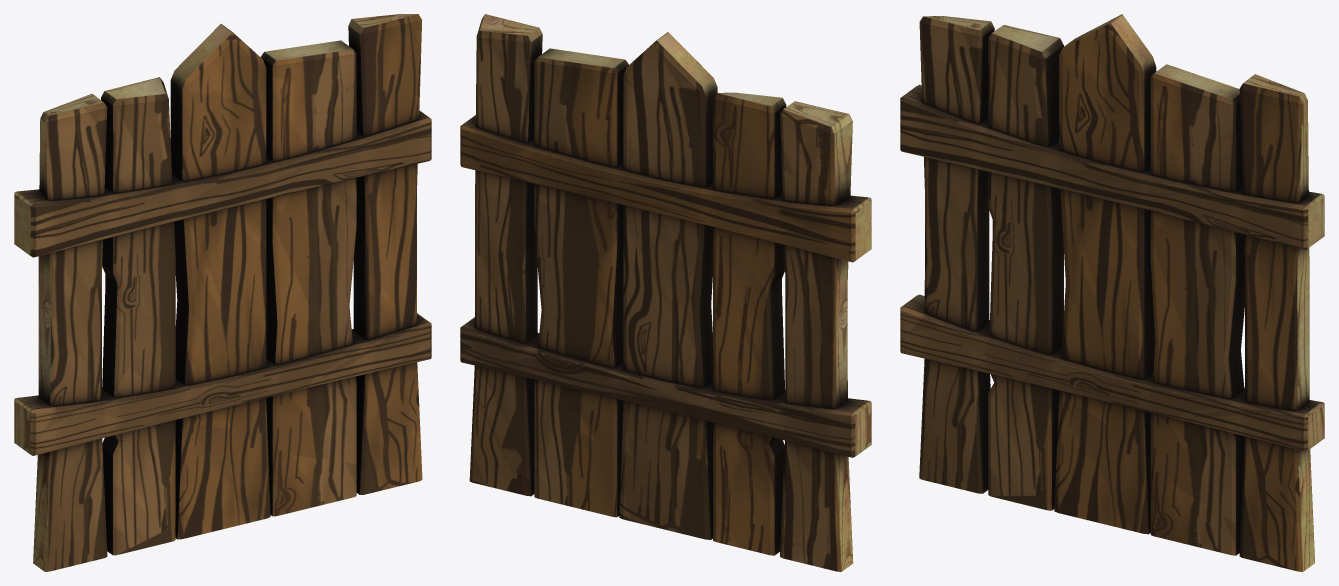
File: wooden Planks2.fbx
The picture shows the model from 3 angles, left to right: view 1: azimuth 30°, elevation 25°; view 2: azimuth 150°, elevation 25°; view 3: azimuth 330°, elevation 25°; orthographic projection. The views are drawn at different scales.
Parts seen in each view (by area): view 1: wooden Planks2; view 2: wooden Planks2; view 3: wooden Planks2.
Boxes of the visible parts, left/top/right/bottom form: wooden Planks2: left=14, top=14, right=431, bottom=571; wooden Planks2: left=460, top=14, right=871, bottom=571; wooden Planks2: left=900, top=14, right=1324, bottom=571.
Bounding box in the file's own units: 34.6 × 40.67 × 3.06.
1 material, 1 textured.
